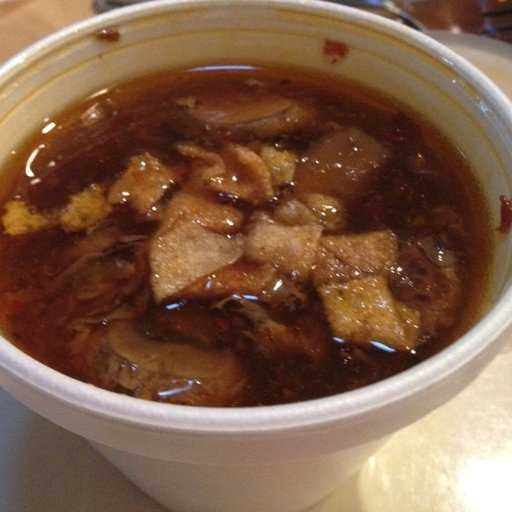soup: (1, 28, 500, 405)
